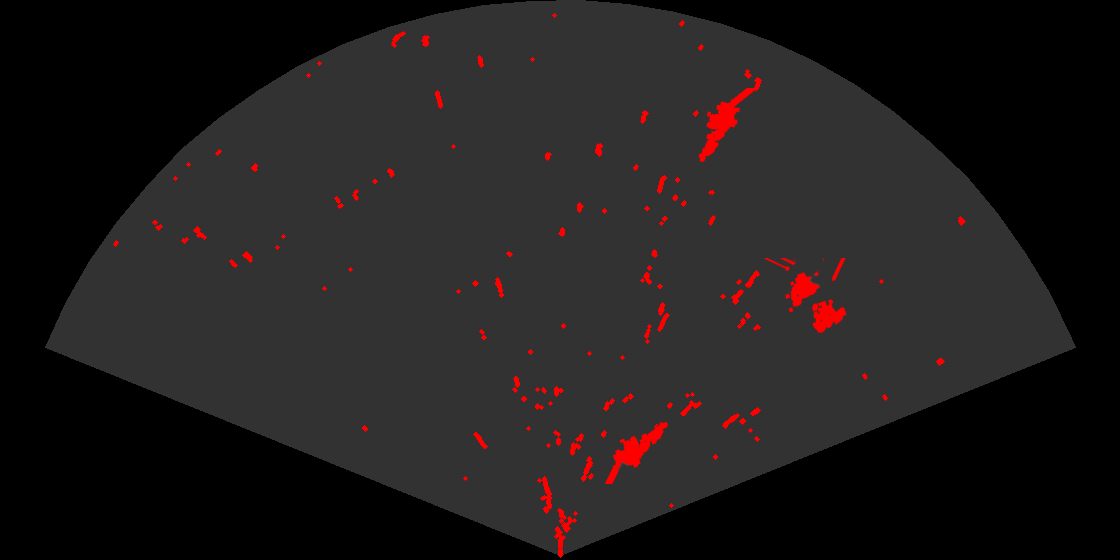cage: (763, 258, 848, 335)
frogman: (697, 88, 756, 164), (603, 420, 670, 484)
